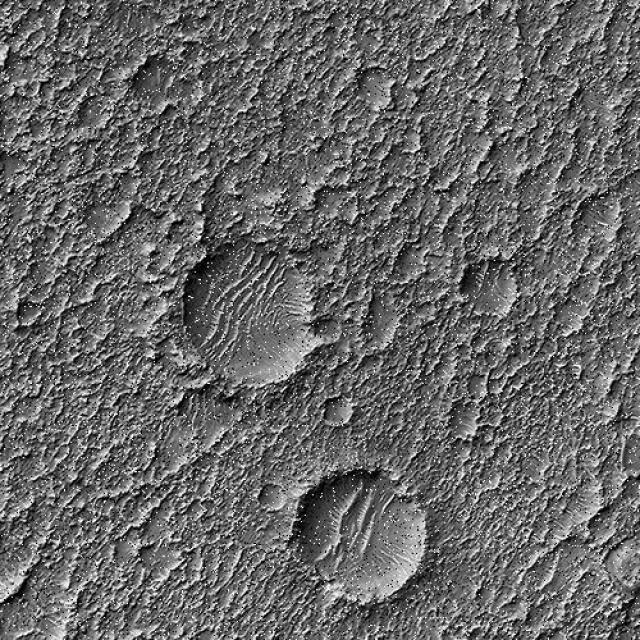crater: (138, 230, 360, 406), (259, 458, 449, 638), (446, 244, 540, 338), (118, 50, 194, 132), (342, 56, 416, 122), (440, 394, 510, 450), (162, 0, 248, 36), (0, 295, 62, 340), (65, 1, 137, 30), (1, 393, 30, 457), (462, 362, 502, 408), (0, 136, 23, 192), (0, 521, 25, 571)
